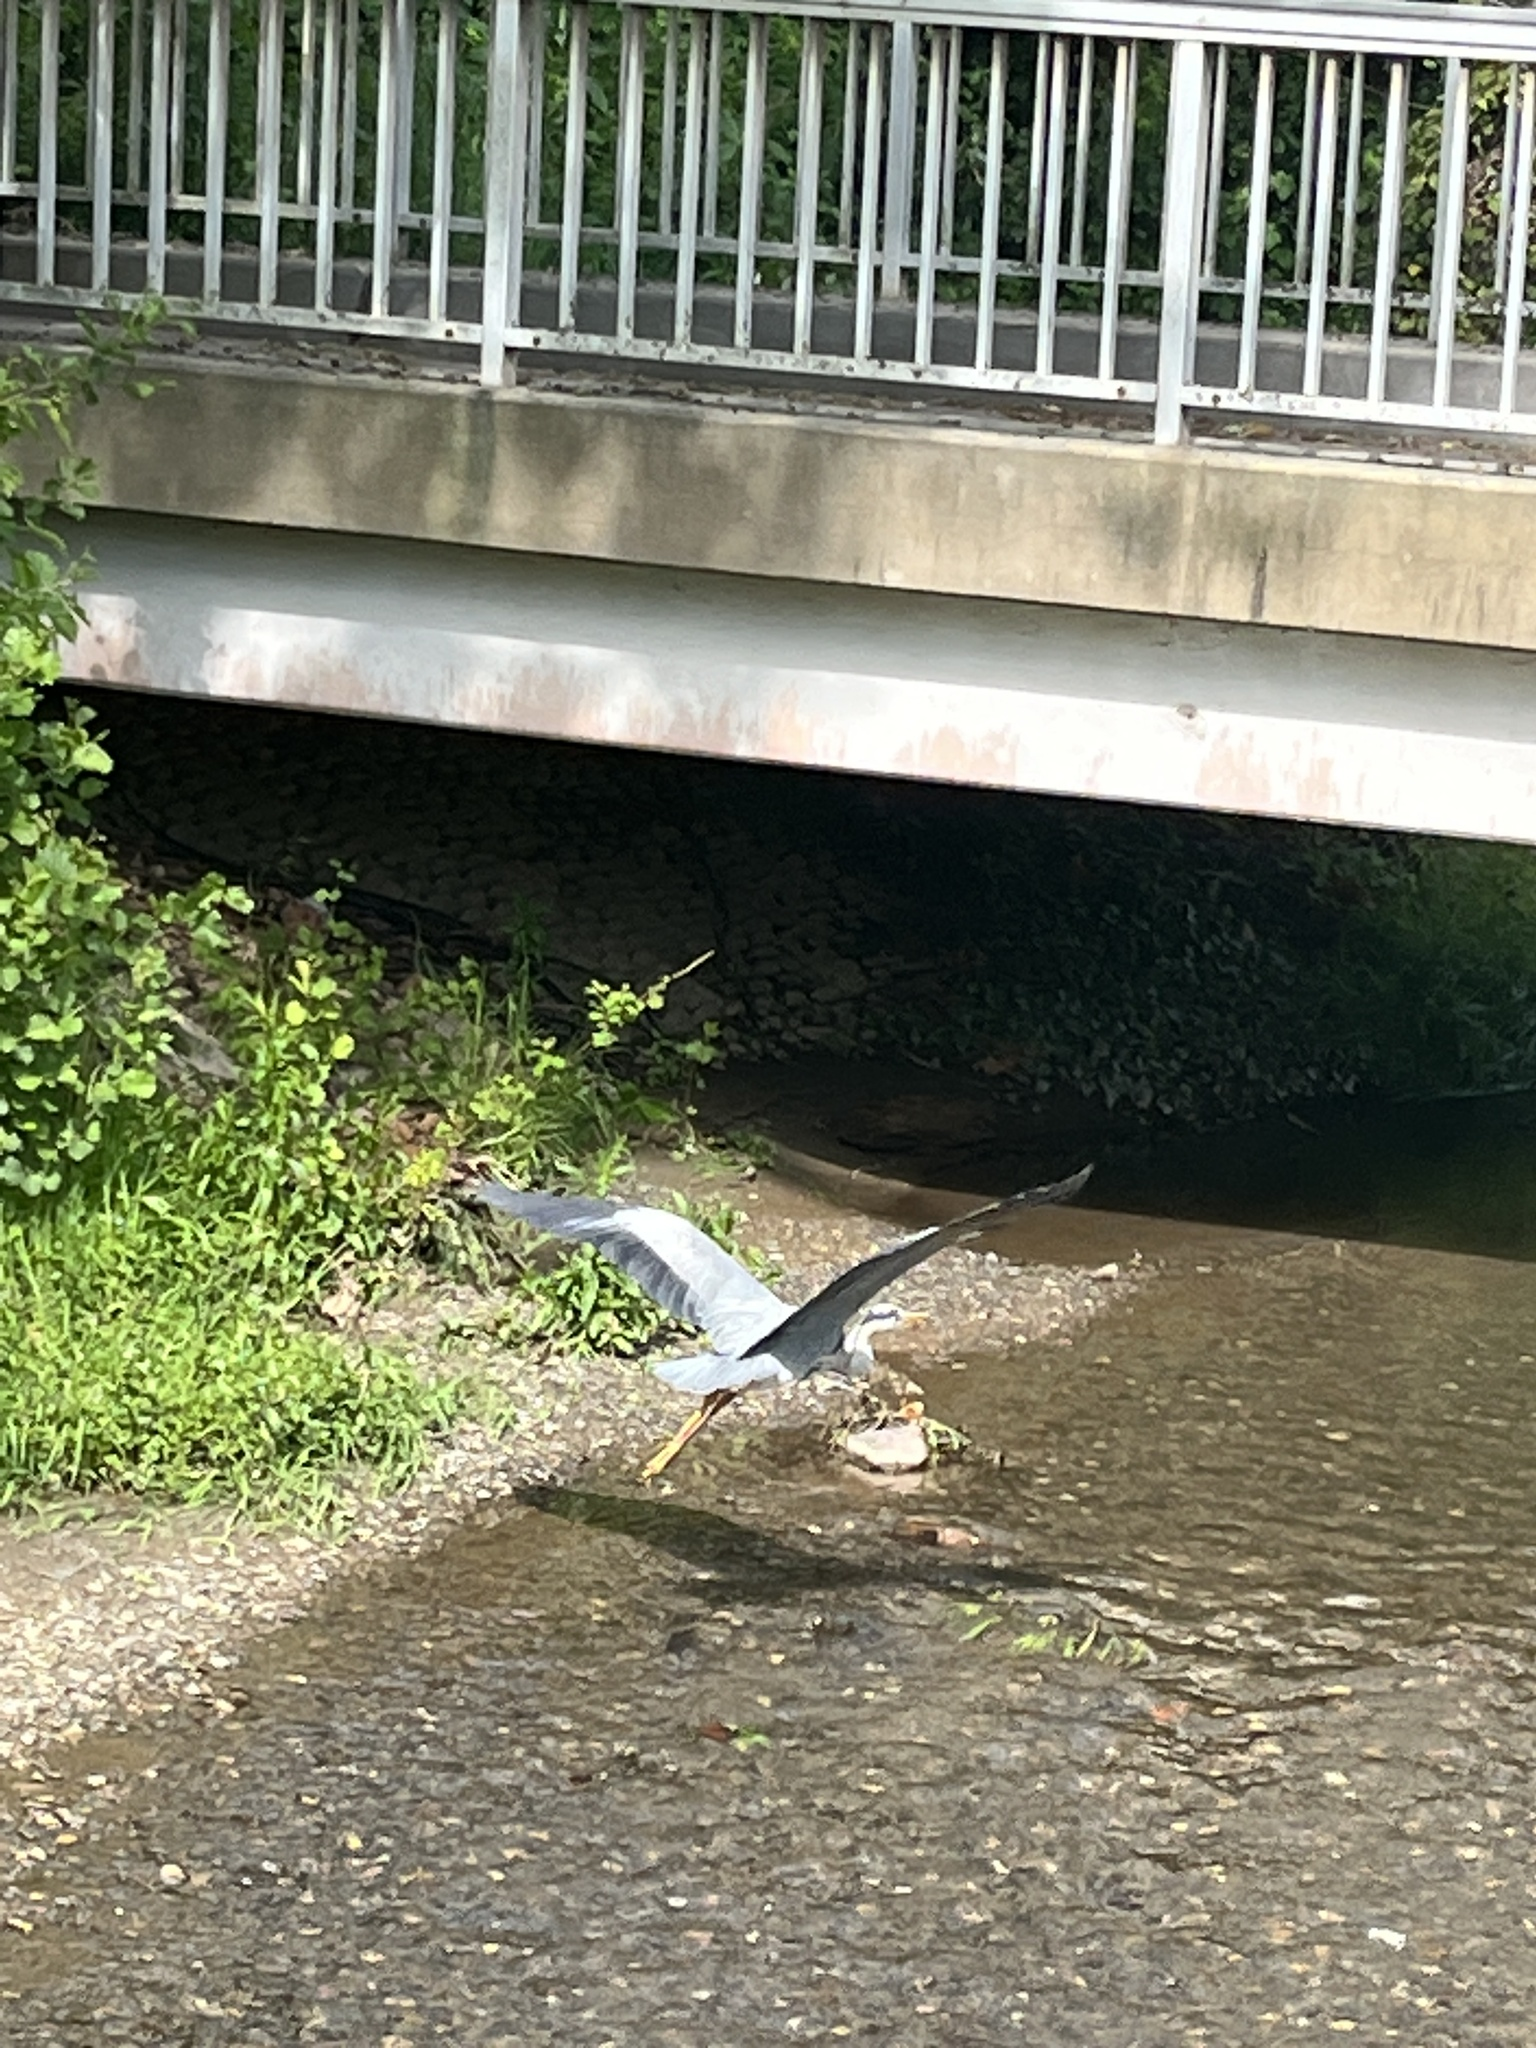heron: (440, 1151, 1112, 1493)
